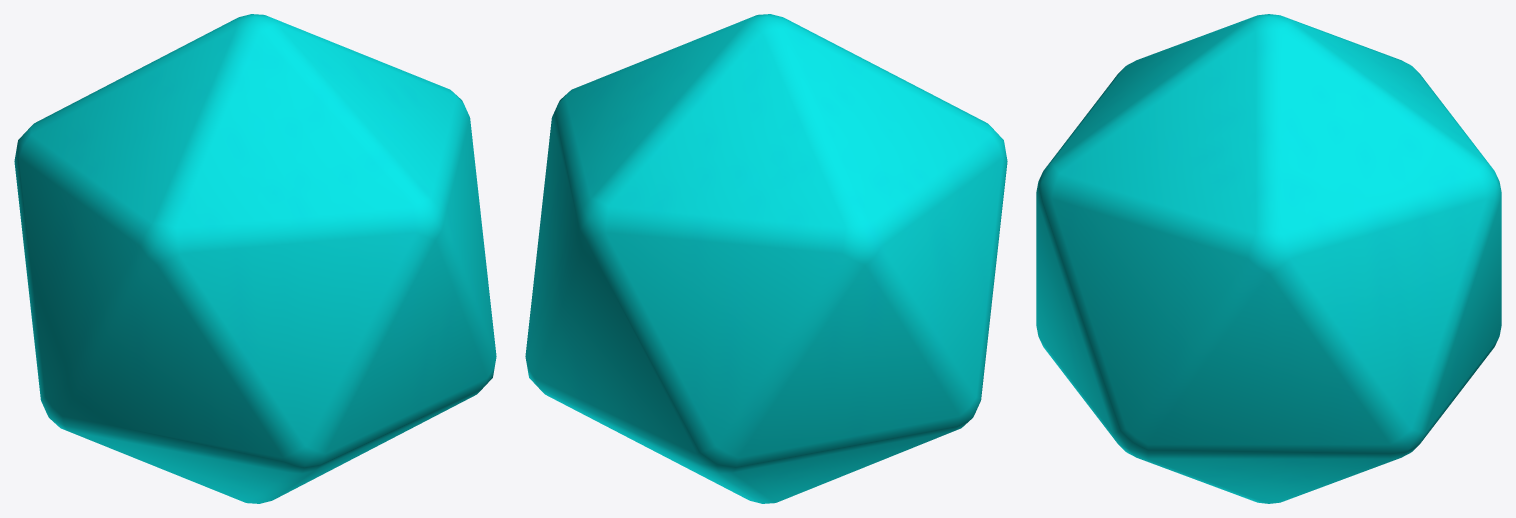
The model's file is D20Small_1.fbx.
3 views of the same model, side by side, from view 1: azimuth 30°, elevation 25°; view 2: azimuth 150°, elevation 25°; view 3: azimuth 270°, elevation 25° (orthographic).
Parts seen in each view (by area): view 1: Icosphere.007; view 2: Icosphere.007; view 3: Icosphere.007.
Part boxes in pixels (x1,y1,x2,y2): Icosphere.007: (14, 14, 496, 503); Icosphere.007: (525, 14, 1007, 503); Icosphere.007: (1036, 14, 1501, 503).
Size of the model in its own units: 175 by 193 by 168.
